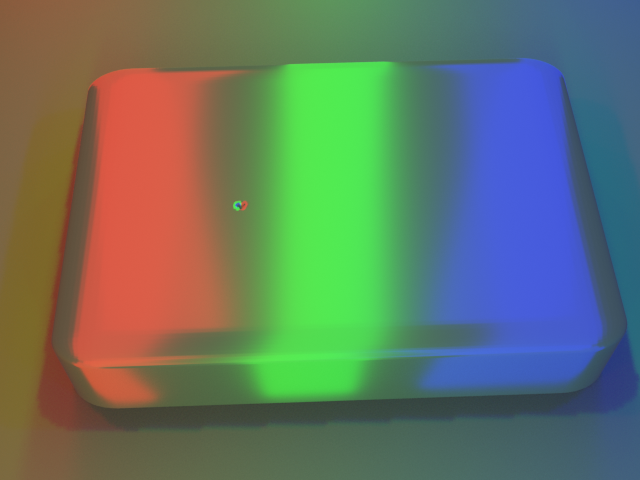dent: (218, 188, 249, 224)
